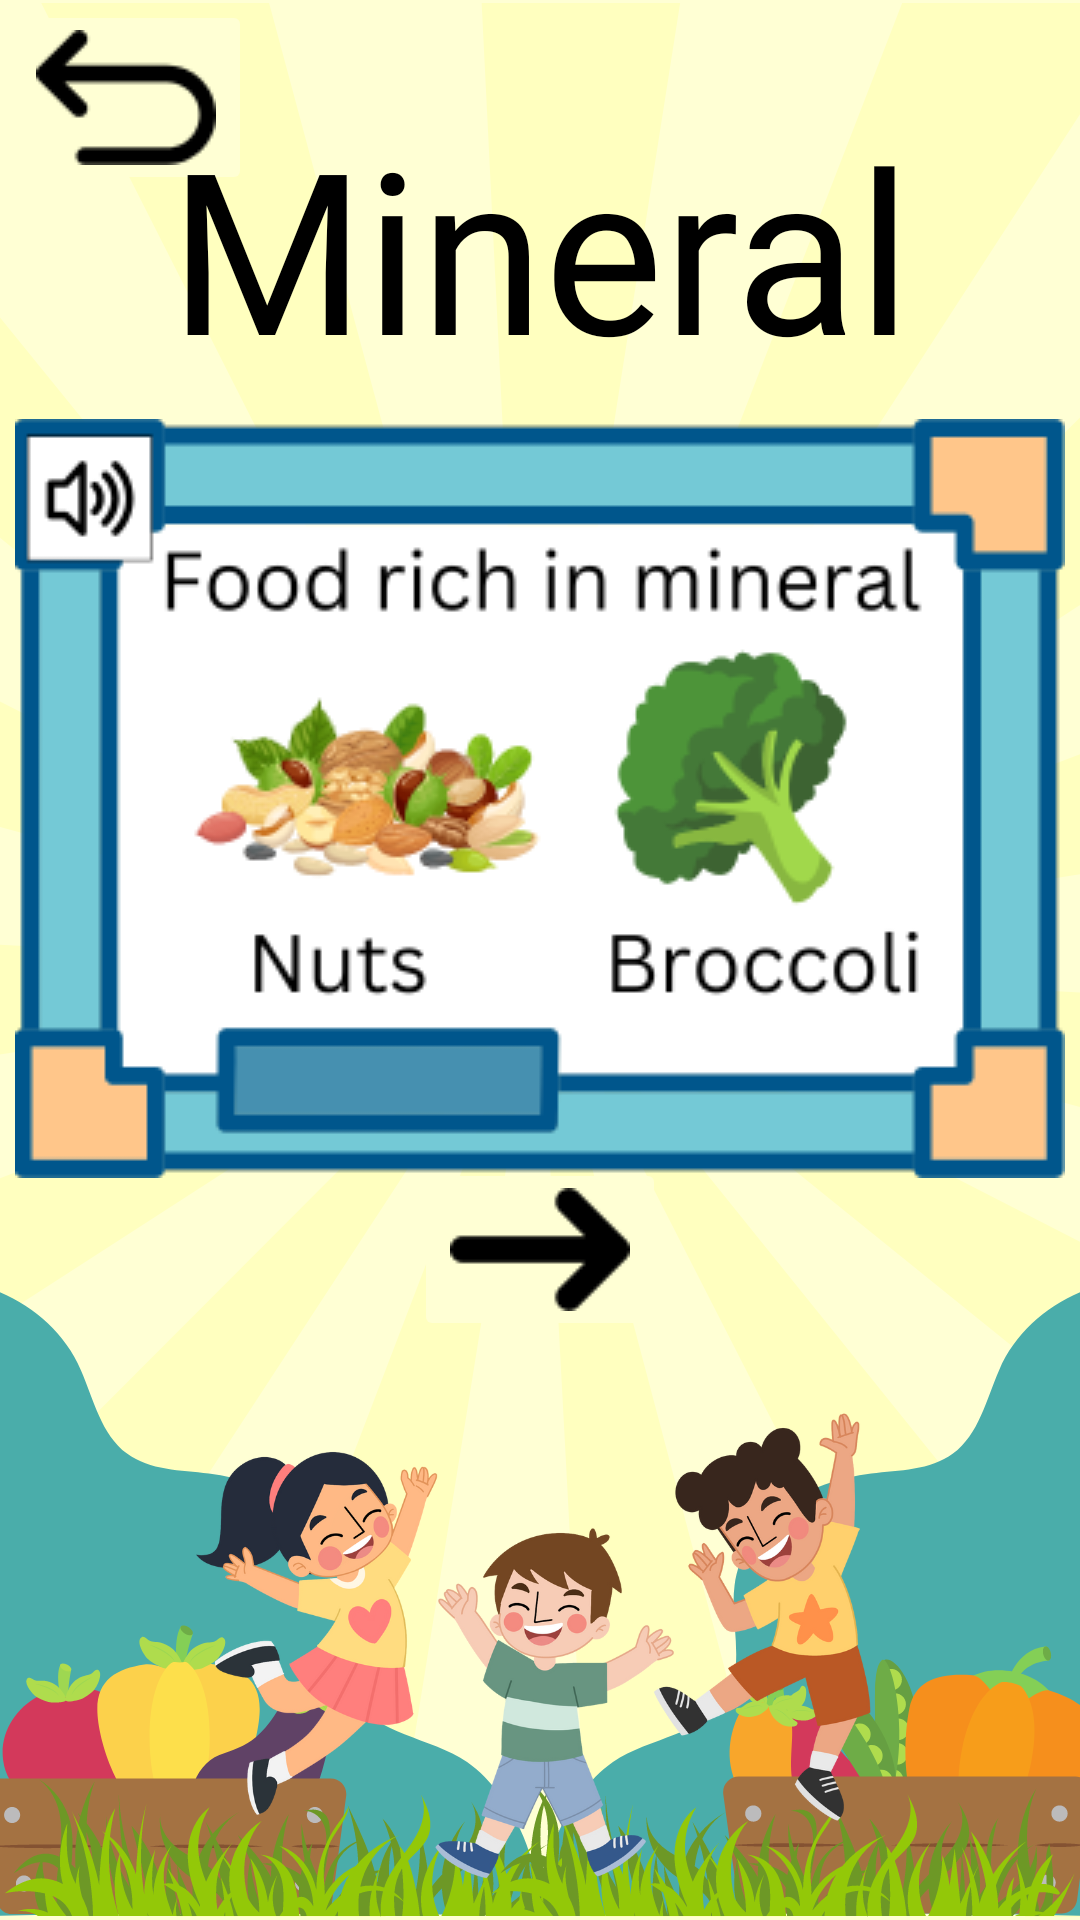

Point at icon controls on the screen. Image size 1080px×1920px, points as [x,y].
Back: [126,97]
Next button: [540,1249]
